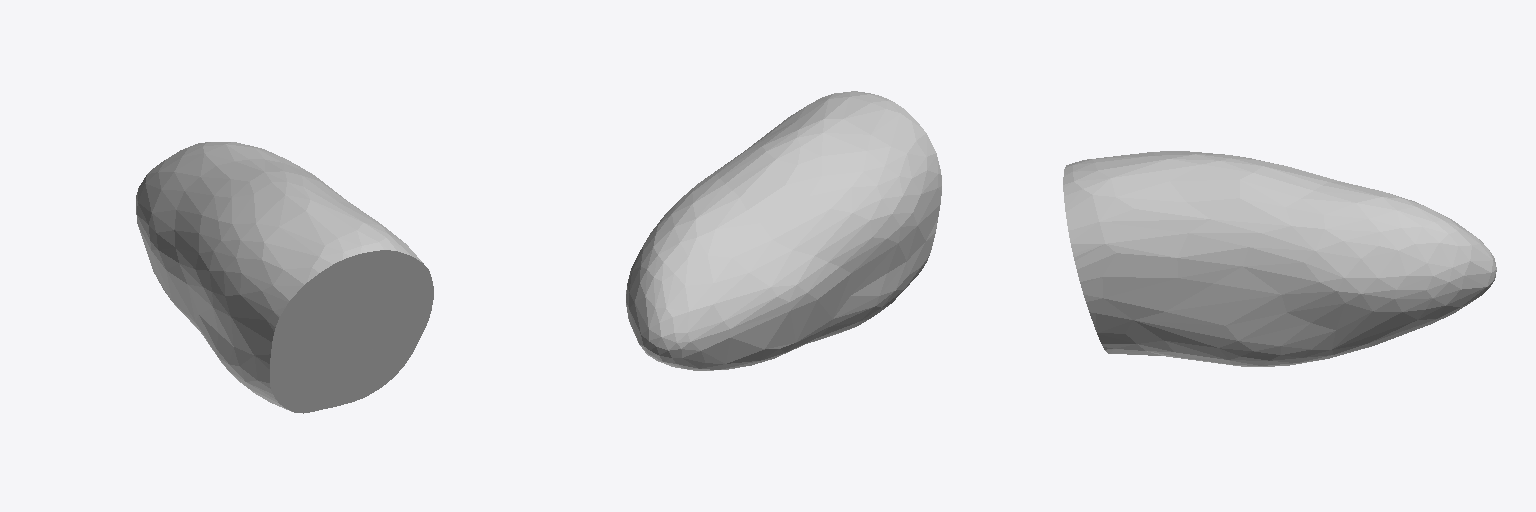
Rendered from viewmodel.obj.
3 renders of one model, left to right at view 1: azimuth 30°, elevation 25°; view 2: azimuth 150°, elevation 25°; view 3: azimuth 270°, elevation 25°, orthographic.
Parts seen in each view (by area): view 1: Sphere; view 2: Sphere; view 3: Sphere.
Boxes of the visible parts, box(x1,y1,x2,y2) form: Sphere: box(136, 142, 433, 413); Sphere: box(626, 91, 941, 370); Sphere: box(1063, 151, 1496, 366).
Bounding box in the file's own units: 0.6618 × 0.6934 × 1.41.